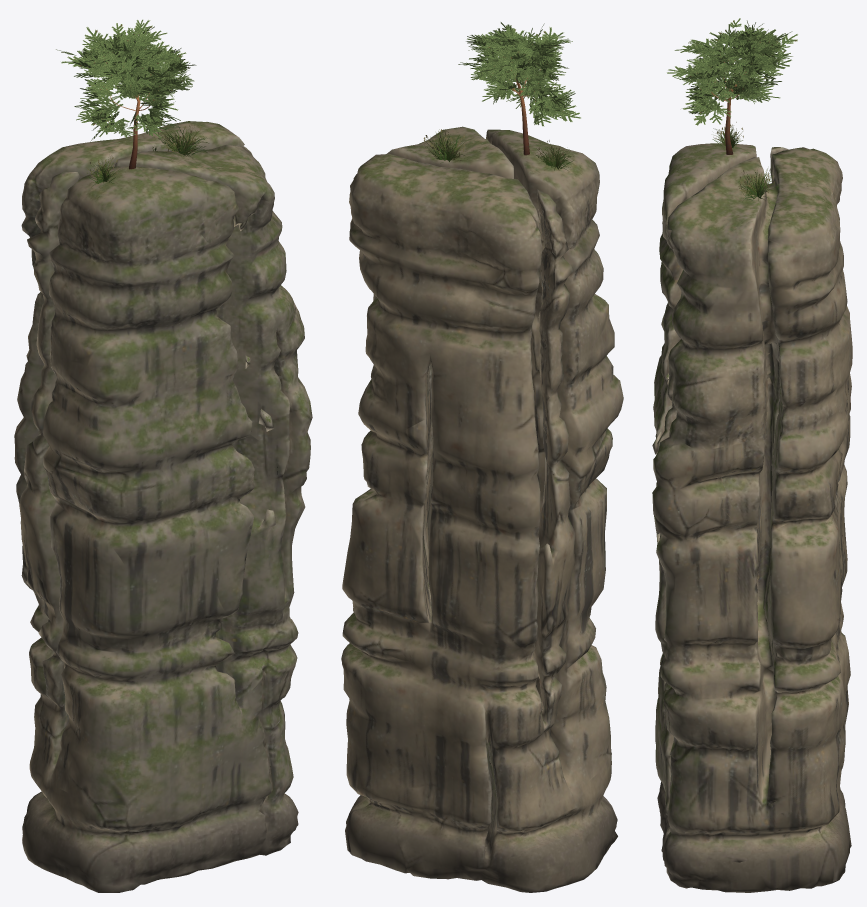
The model's file is skala_vez.glb.
3 views of the same model, side by side, from view 1: azimuth 30°, elevation 25°; view 2: azimuth 150°, elevation 25°; view 3: azimuth 270°, elevation 25° (orthographic). The views are drawn at different scales.
Parts seen in each view (by area): view 1: skala_vez, borovice_mlada, trava_vysoka_2; view 2: skala_vez, borovice_mlada, trava_vysoka_2; view 3: skala_vez, borovice_mlada, trava_vysoka_2.
Boxes of the visible parts, x1=… form: skala_vez: x1=14, y1=121, x2=312, y2=892; borovice_mlada: x1=56, y1=19, x2=196, y2=169; trava_vysoka_2: x1=158, y1=123, x2=208, y2=158; skala_vez: x1=341, y1=126, x2=623, y2=892; borovice_mlada: x1=458, y1=22, x2=580, y2=155; trava_vysoka_2: x1=423, y1=129, x2=468, y2=163; skala_vez: x1=652, y1=143, x2=852, y2=892; borovice_mlada: x1=667, y1=18, x2=797, y2=154; trava_vysoka_2: x1=738, y1=168, x2=775, y2=201.
Size of the model in its own units: 6.9 by 22.47 by 5.11.
7 materials, 7 textured.
